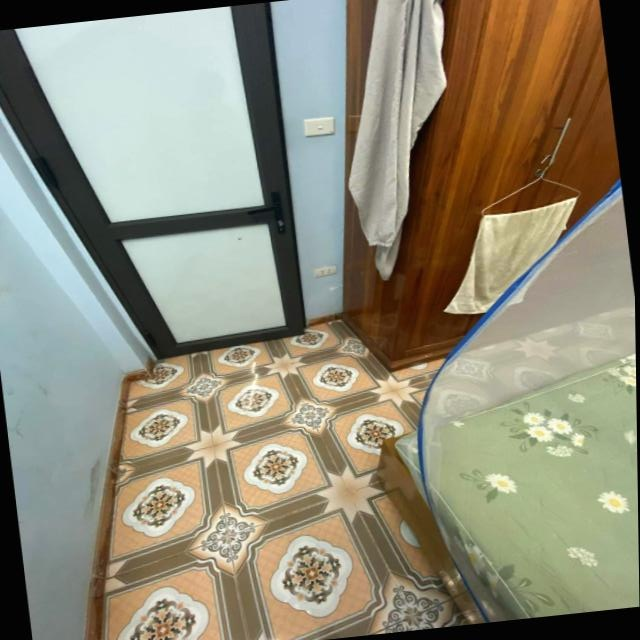outlet: (312, 265, 337, 279)
